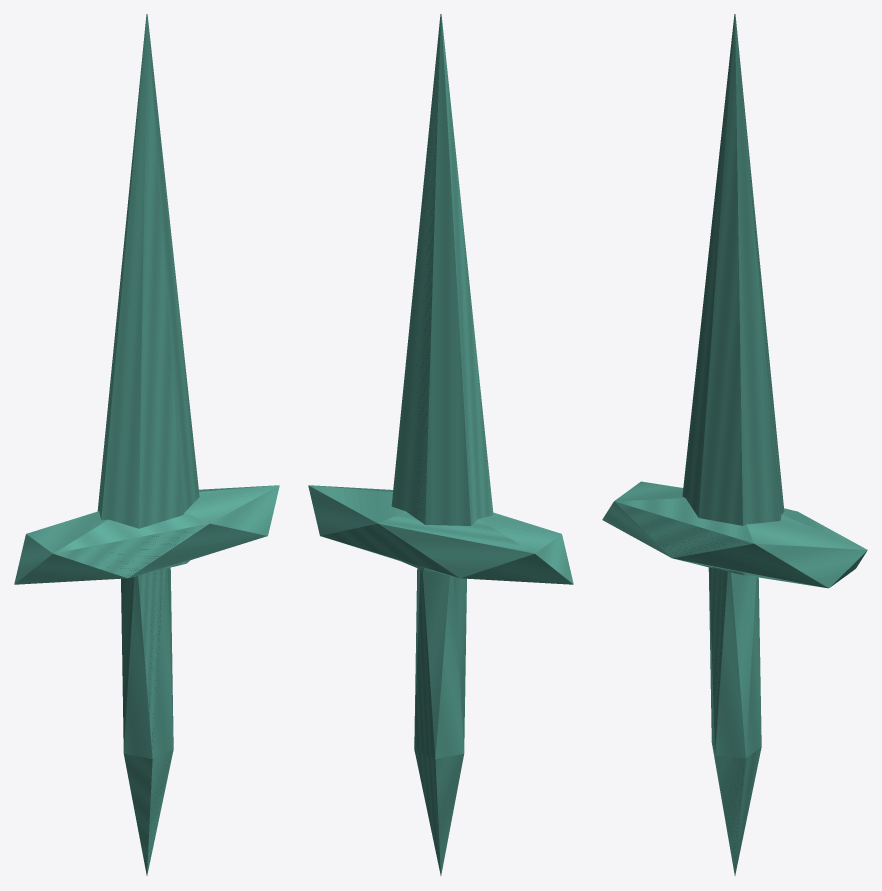
File: shatter.glb
The picture shows the model from 3 angles, left to right: view 1: azimuth 30°, elevation 25°; view 2: azimuth 150°, elevation 25°; view 3: azimuth 330°, elevation 25°; orthographic projection.
Parts seen in each view (by area): view 1: gear_shatter; view 2: gear_shatter; view 3: gear_shatter.
Boxes of the visible parts, x1,y1,x2,y2 form: gear_shatter: (14, 14, 279, 875); gear_shatter: (308, 14, 573, 875); gear_shatter: (602, 14, 867, 875).
Size of the model in its own units: 0.3578 by 1.11 by 0.1021.
Materials: 1 (1 with a texture image).
